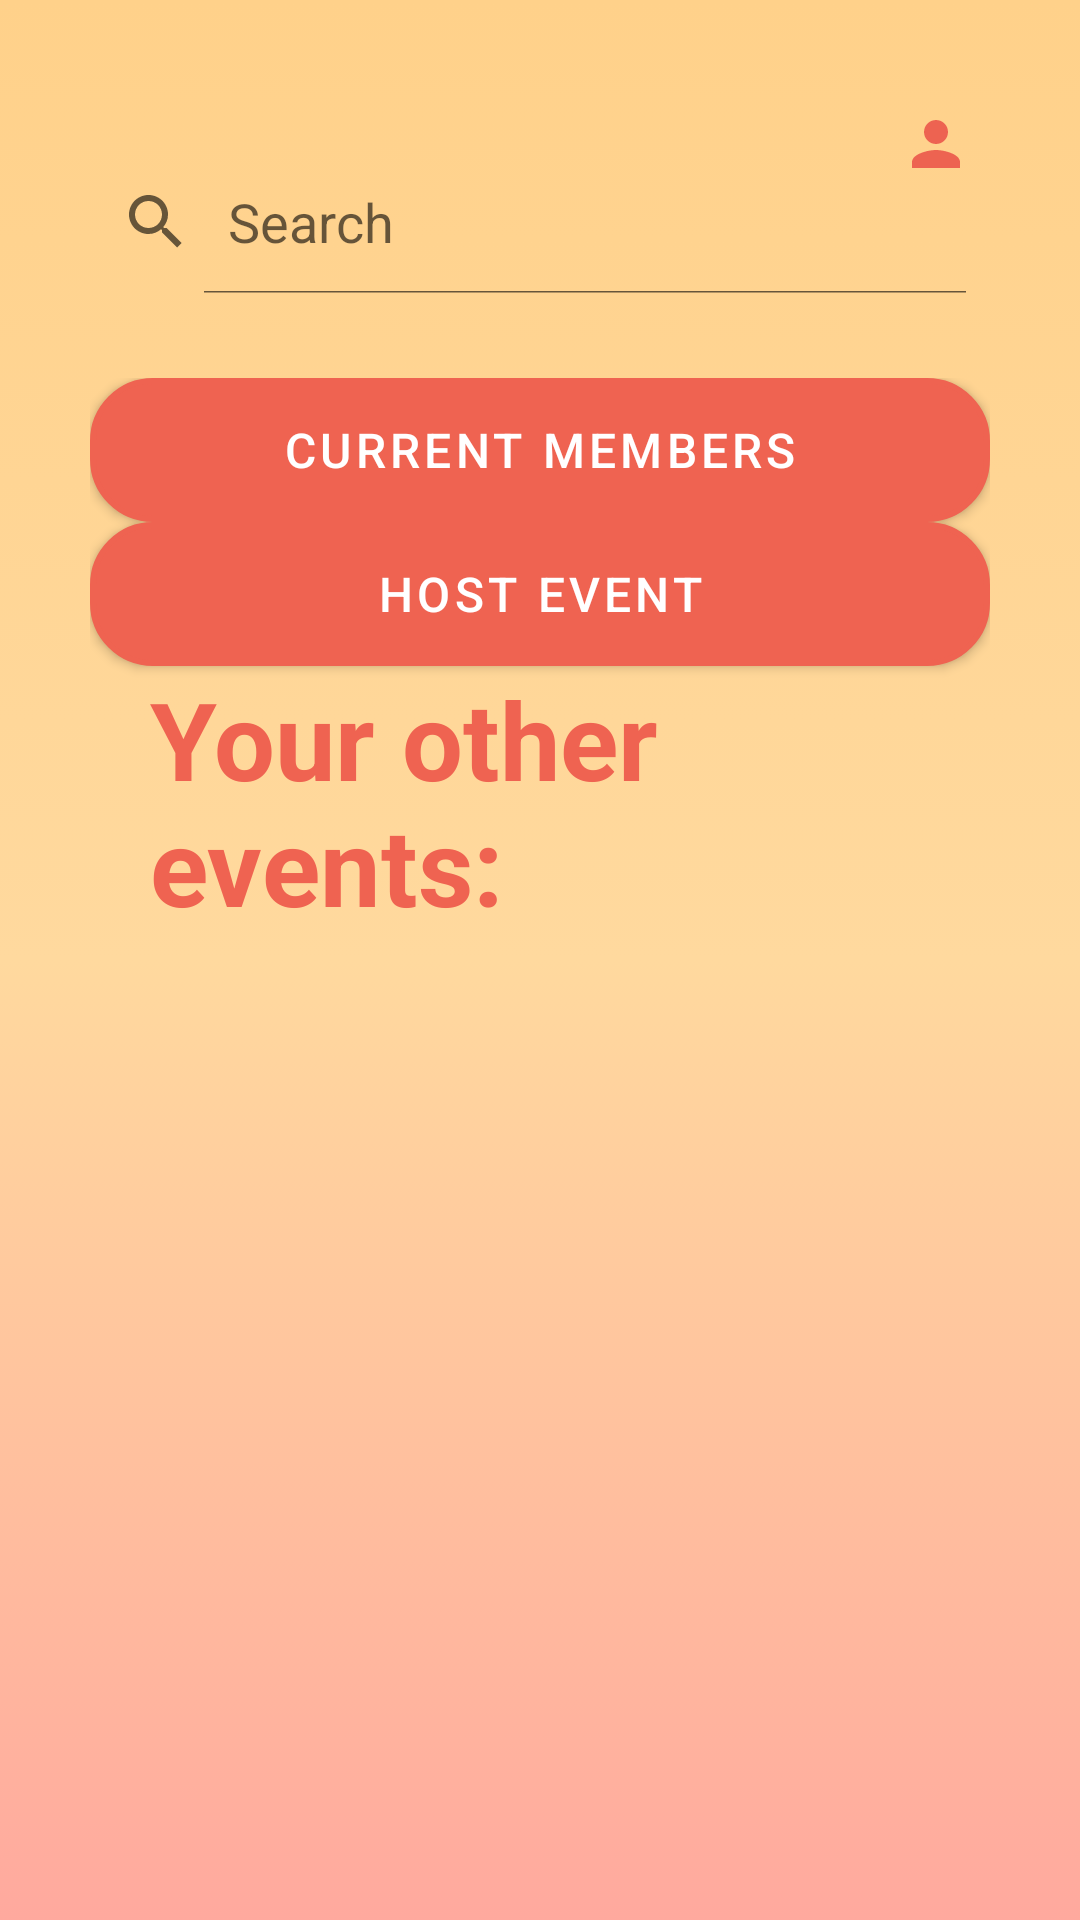

Where icons sit on this 1080px x 1920px app screen, as [x1, y1, x2, y2]:
Profile: [912, 120, 960, 168]
